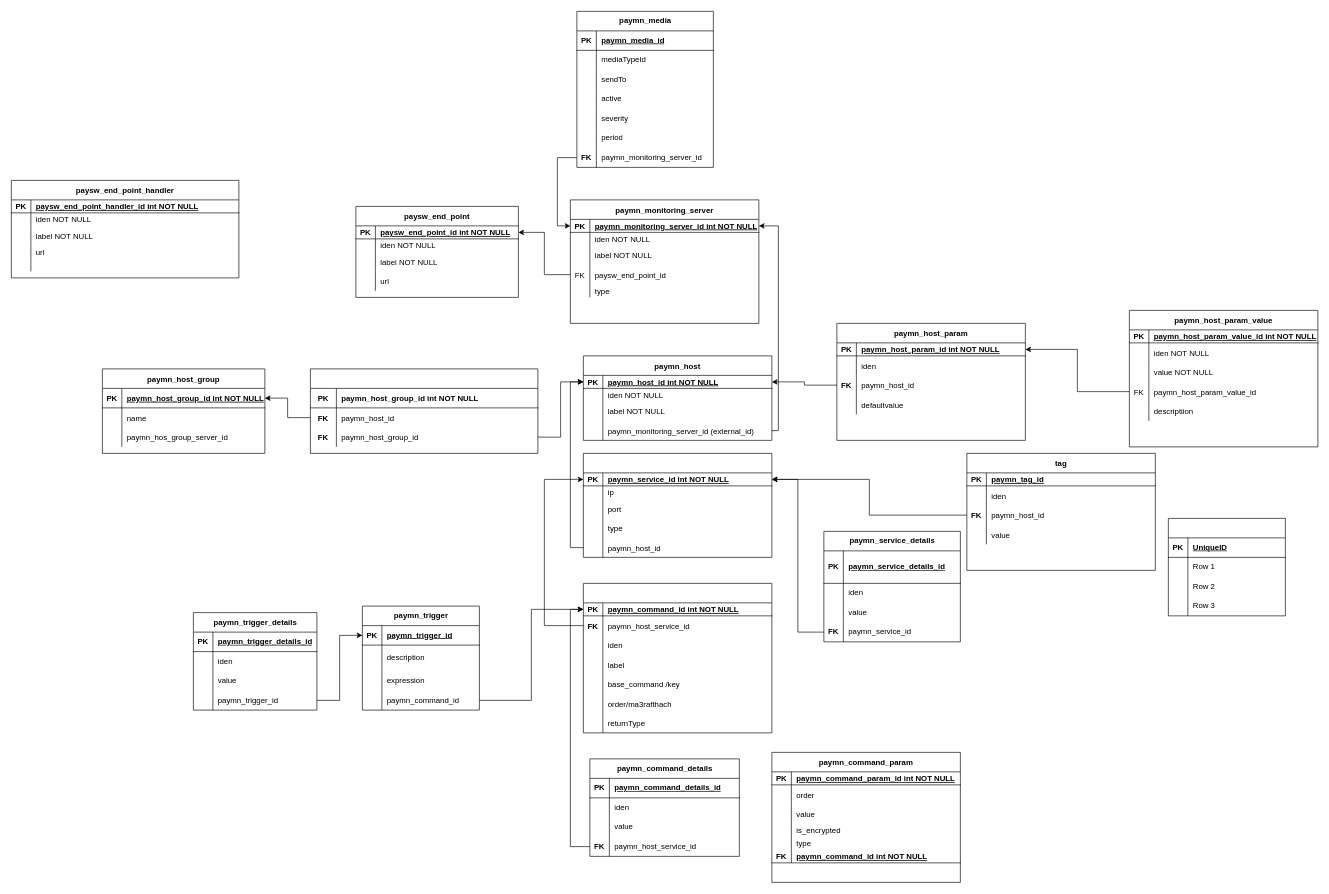
Image size: 1329x894. Some labels were removed from this diagram. The box of each missing label's shape, as (x1, y1, x2, y2) in pixels:
paymn_: (1168, 518, 1285, 616)
paymn_command/item: (583, 583, 772, 733)
paymn_host_group_det: (310, 368, 538, 453)
paymn_service/interface: (583, 453, 772, 557)
